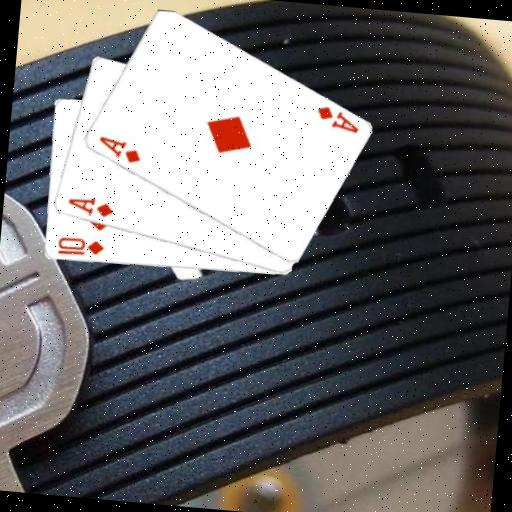10D: (54, 234, 106, 260)
AD: (94, 132, 144, 166), (312, 102, 362, 135), (63, 193, 115, 220)
